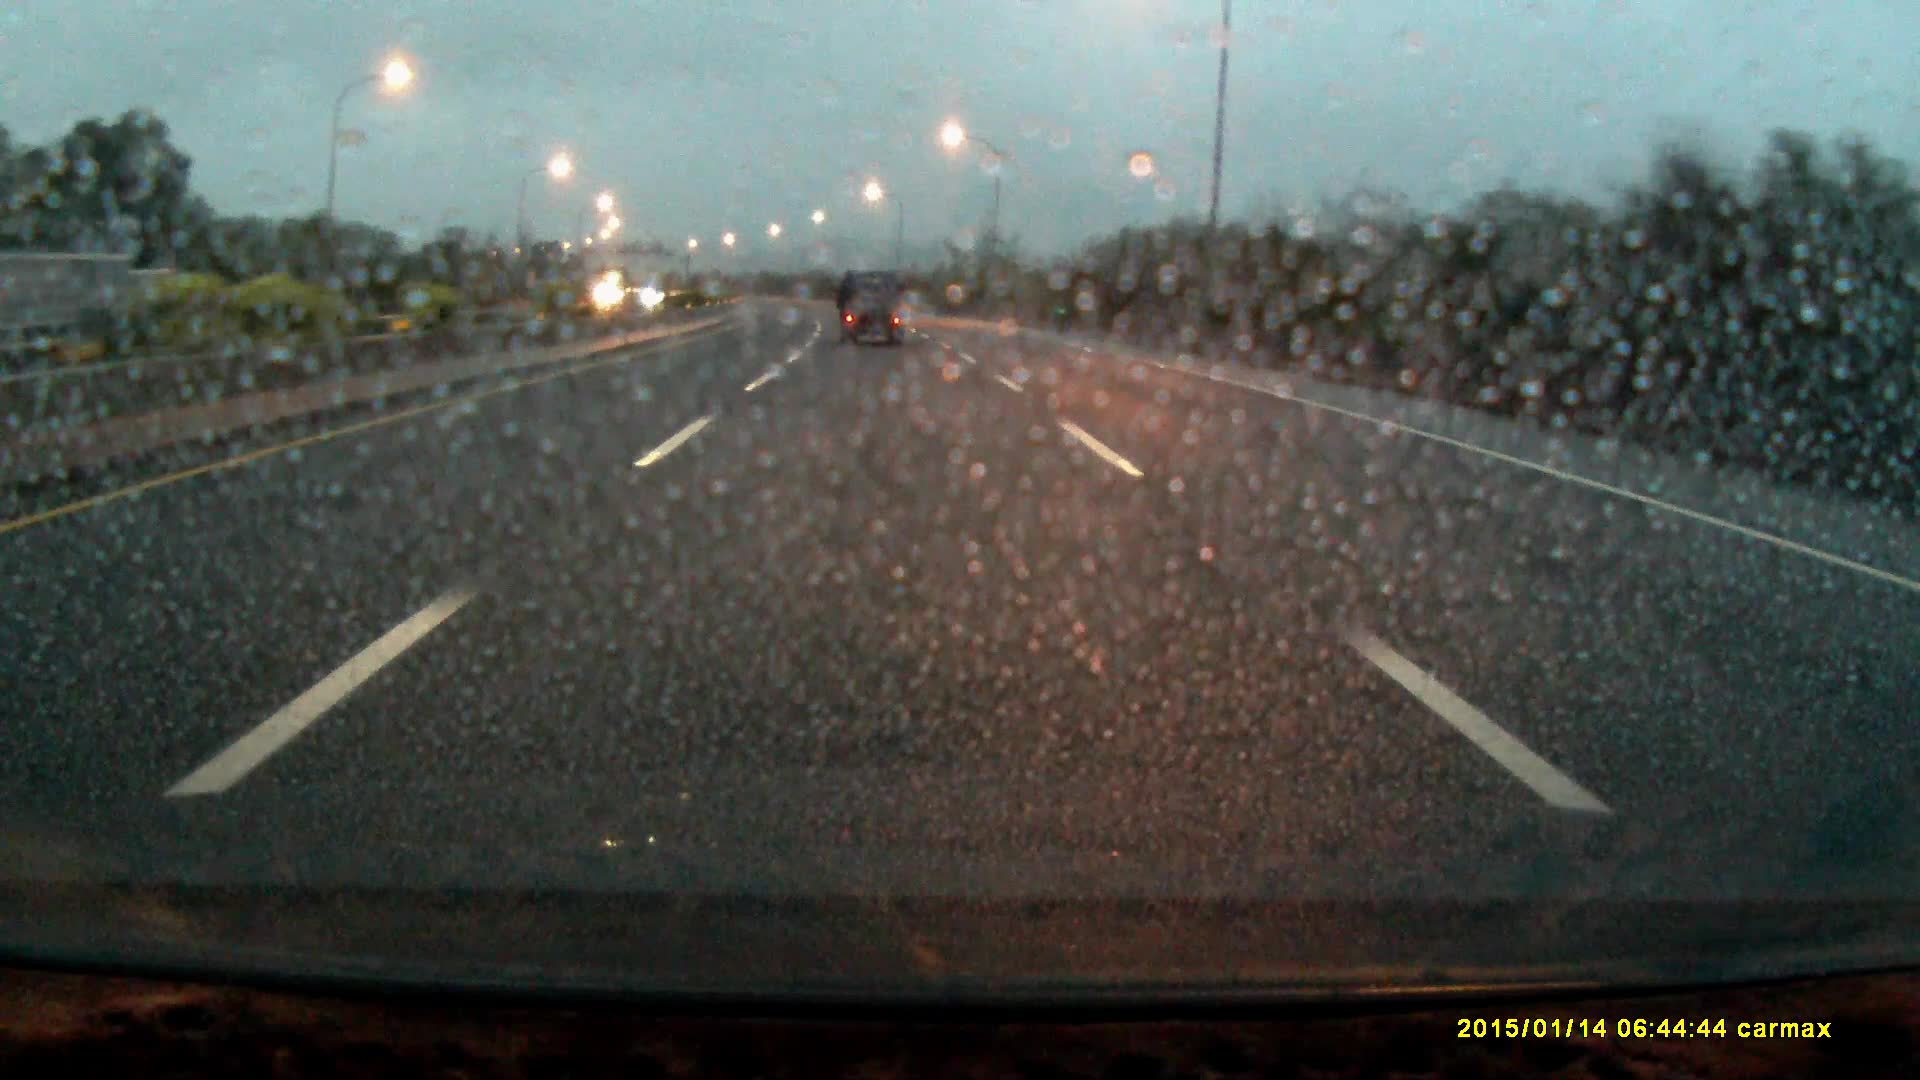vehicle: (839, 274, 909, 353)
